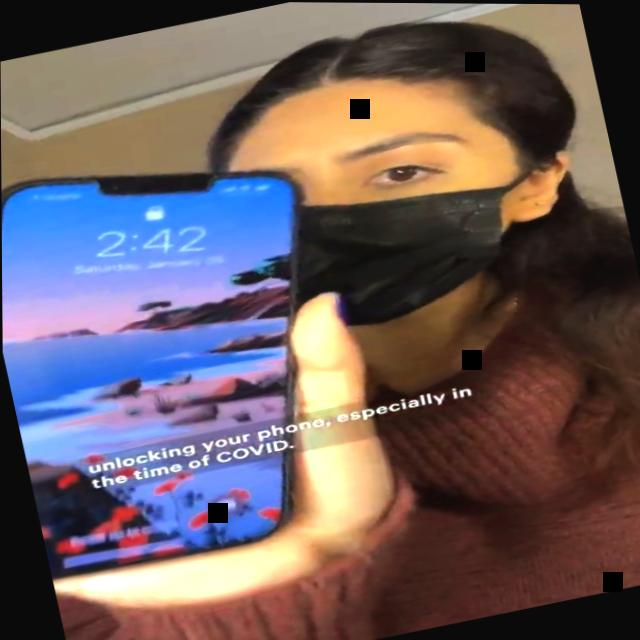Mask: (223, 45, 540, 341)
